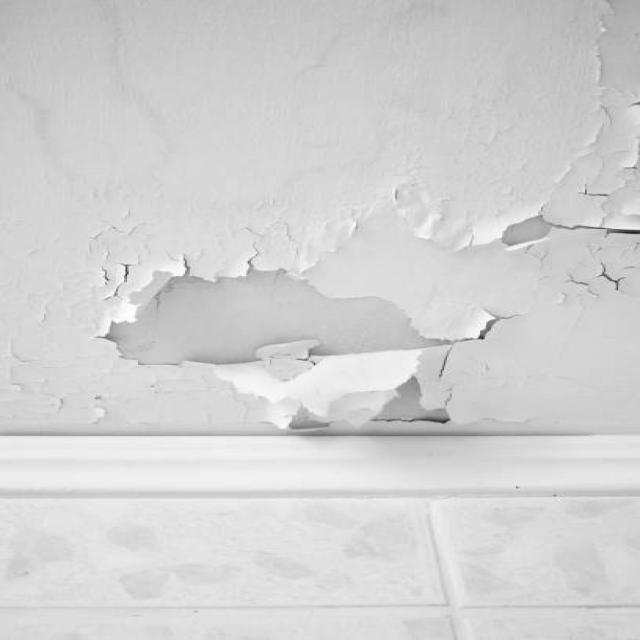peeling paint: (4, 26, 640, 439)
